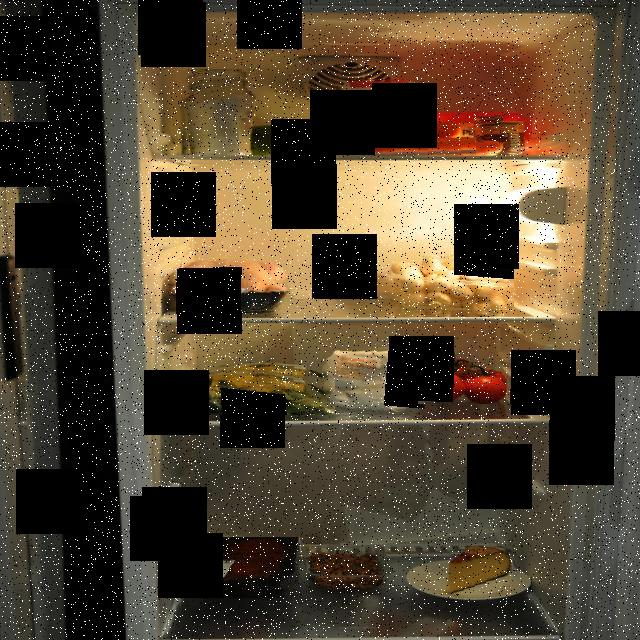apple: (239, 118, 343, 158)
beef: (185, 538, 302, 598)
carrot: (310, 114, 503, 160)
cheese: (444, 546, 514, 594)
chicken: (162, 256, 296, 314)
corn: (474, 122, 525, 156)
flour: (322, 340, 430, 416)
mushrooms: (386, 252, 514, 310)
shrimp: (306, 551, 386, 589)
spinach: (164, 362, 336, 416)
sugar: (180, 69, 256, 157), (341, 78, 416, 156)
tomato: (418, 352, 512, 404)
